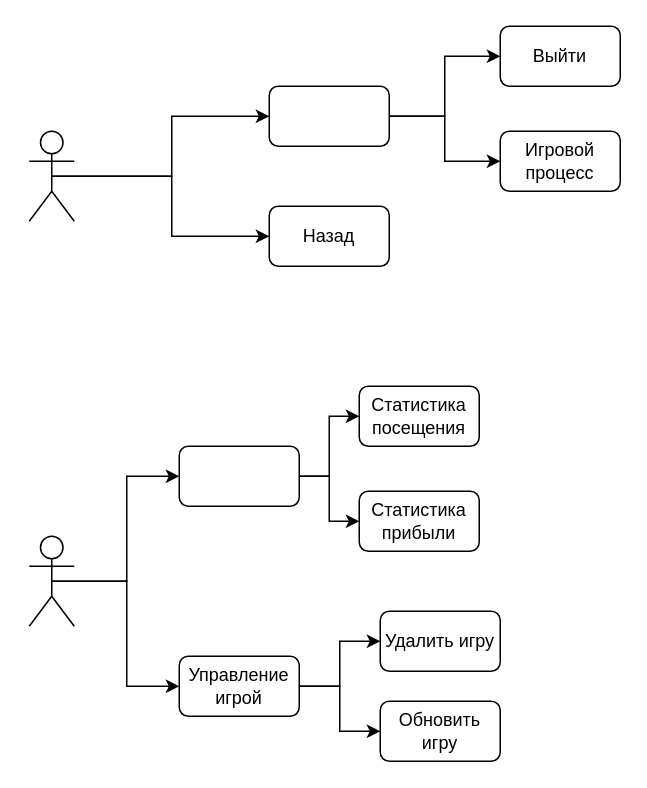
Some shapes in this 647 by 788 pixel diagram are drawn without their labels. The centre of each missing label's shape, as x and y in pixels:
"Admin" goes at pixel 51 580.
"User" goes at pixel 51 175.
"Играть" goes at pixel 328 115.
"Статистика игры" goes at pixel 238 475.
